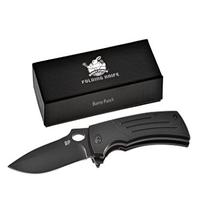knife: (5, 110, 188, 180)
